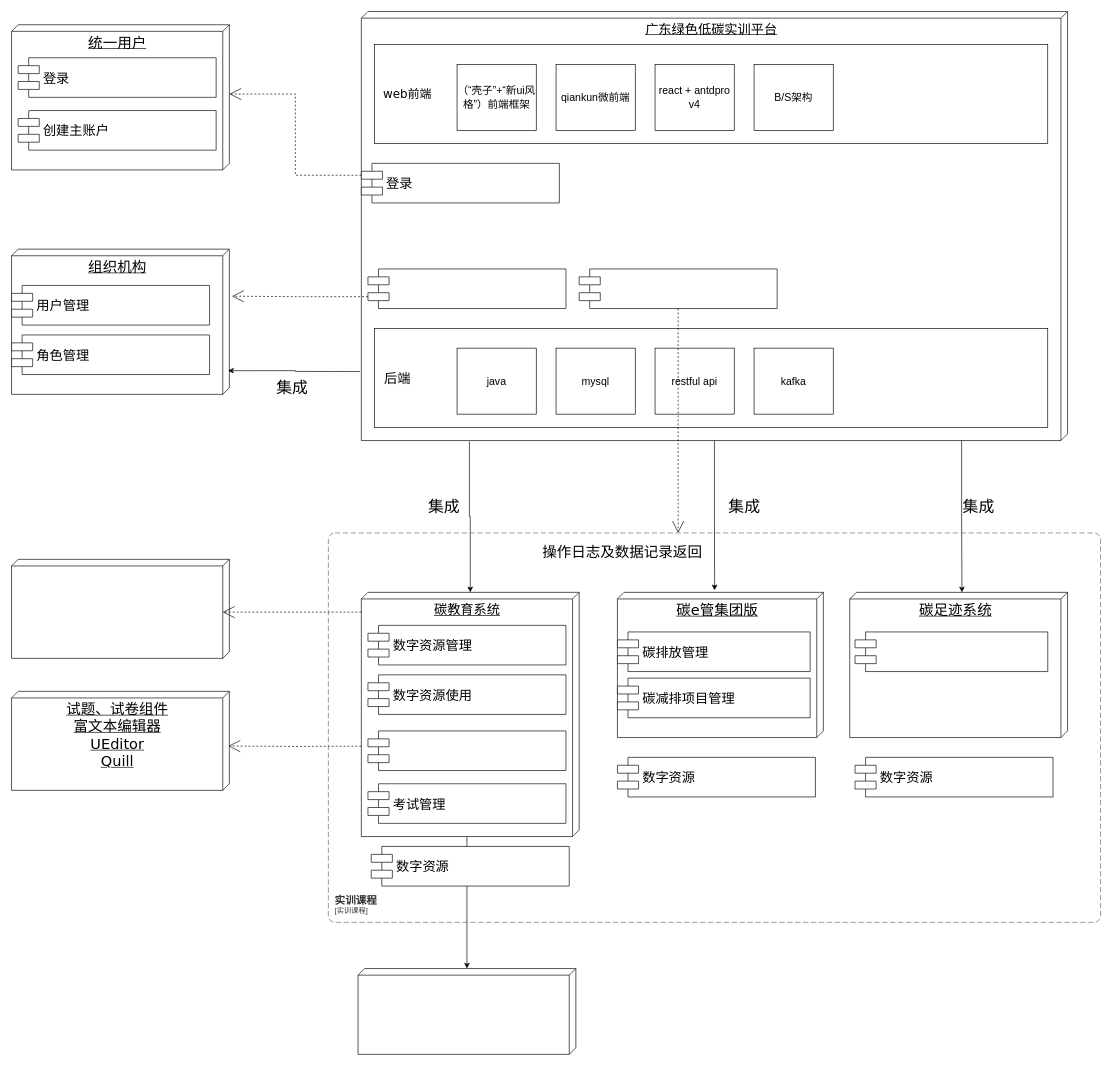
The diagram is 1112 pixels wide and 1066 high, and some of its shapes have lost their labels. The centre of each missing label's shape, as x and y in pixels:
产品碳足迹: the point at 951,651
实训课程: the point at 677,288
文件服务 文件上传 文件下载: the point at 120,608
用户管理 角色管理: the point at 466,288
视频组件 HTML5 <video>: the point at 466,1011
试卷、试题管理: the point at 466,750
